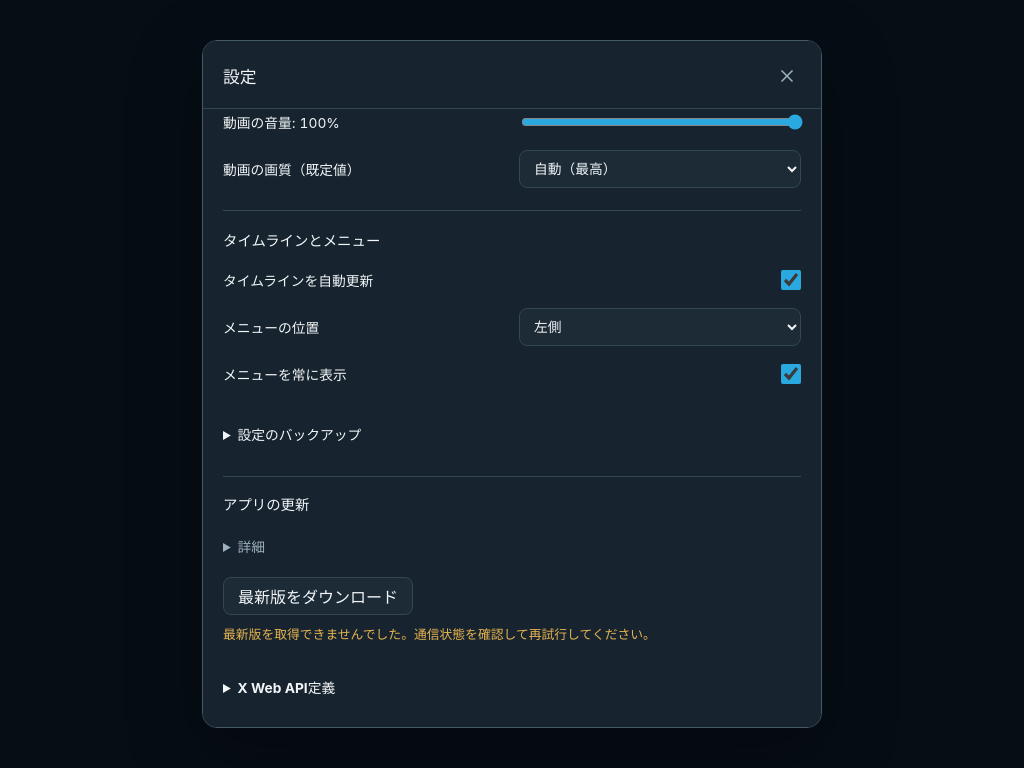
Test: allows retry after a failed check without downloading a current release
(page scrolled)
What coordinates should you click on to do the following:
click the button with test id "download-latest-desktop"
I would click on:
 (318, 596)
Its box is [223,577,413,615].
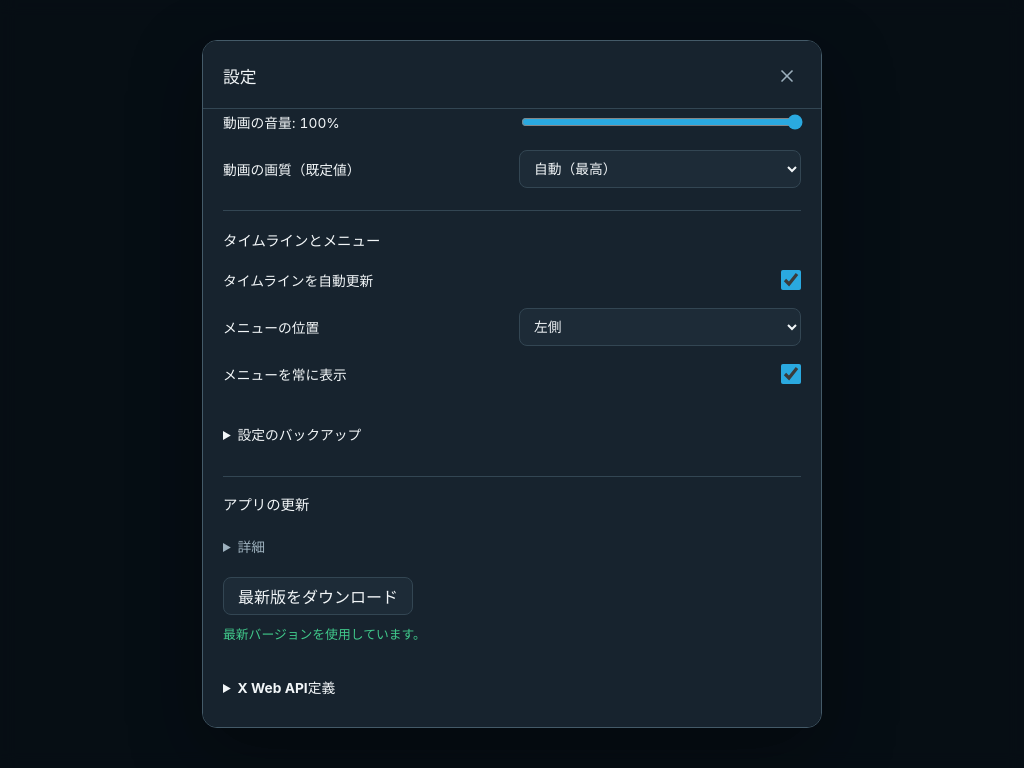
Expected: the text "最新バージョンを使用しています。" is shown, [223,627,426,642]
